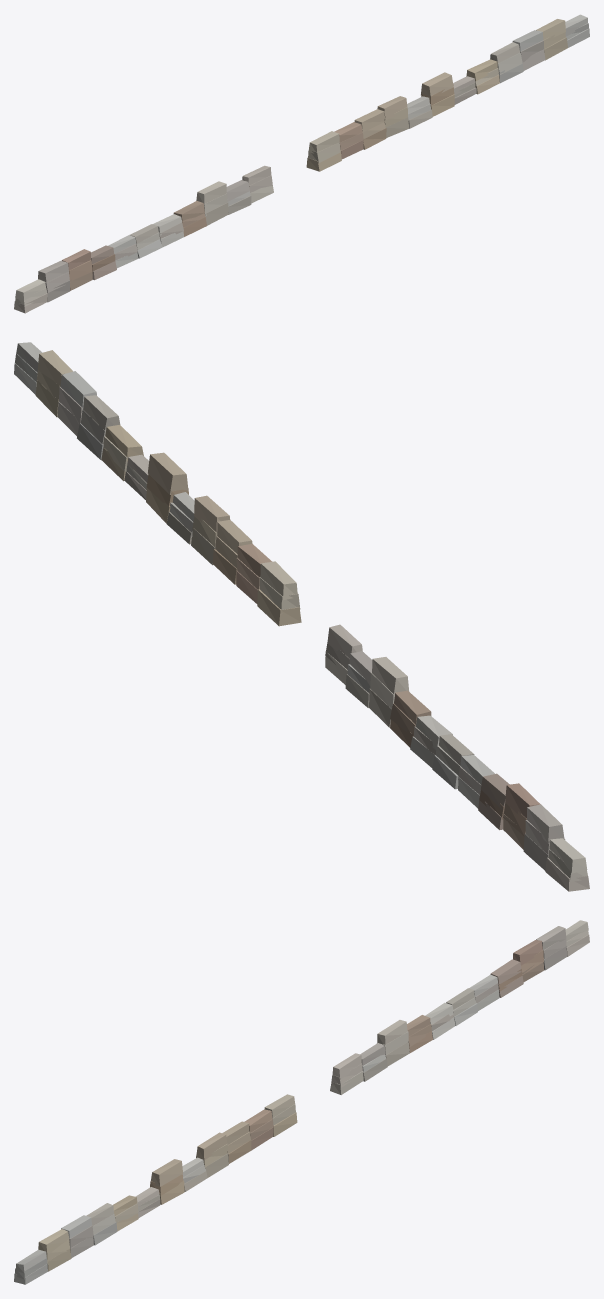
File: farm_-3_1_mid.glb
The picture shows the model from 3 angles, top to bottom: view 1: azimuth 90°, elevation 25°; view 2: azimuth 150°, elevation 25°; view 3: azimuth 270°, elevation 25°; orthographic projection. The views are drawn at different scales.
Parts seen in each view (by area): view 1: geometry_0; view 2: geometry_0; view 3: geometry_0.
Part boxes in pixels (left/top/right/bottom): geometry_0: left=14, top=14, right=589, bottom=313; geometry_0: left=14, top=342, right=589, bottom=891; geometry_0: left=14, top=920, right=589, bottom=1284.
Size of the model in its own units: 30.84 by 2.74 by 23.97.
